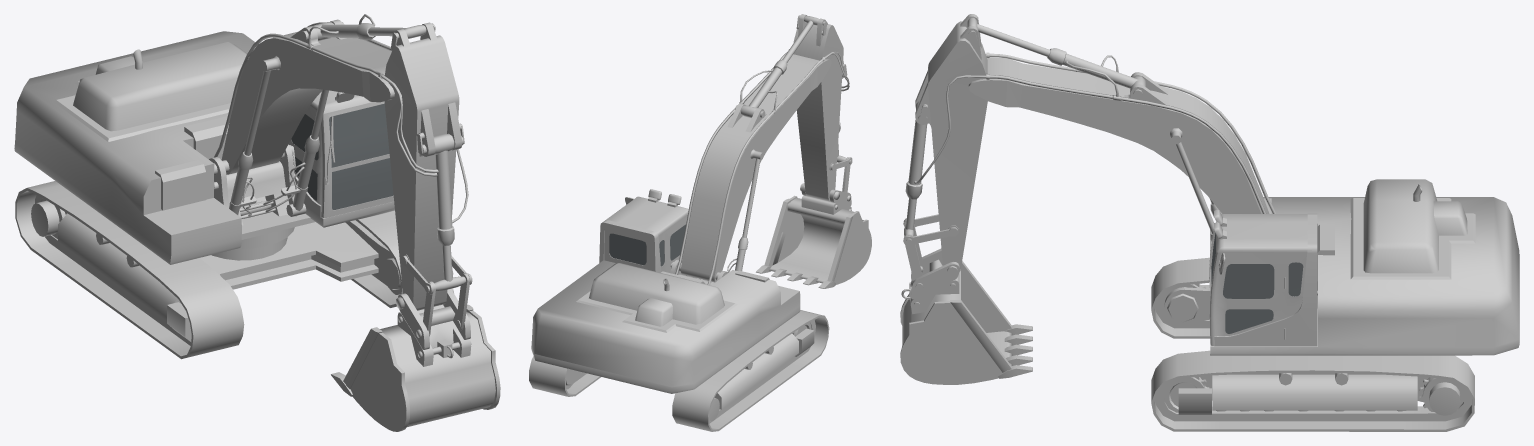
Rendered from HydraulicExcavator_LOD1.FBX.
3 renders of one model, left to right at view 1: azimuth 30°, elevation 25°; view 2: azimuth 150°, elevation 25°; view 3: azimuth 270°, elevation 25°, orthographic. The views are drawn at different scales.
Parts seen in each view (by area): view 1: Arm_LOD1, Body_LOD1, Track_LOD1, Windows_LOD1; view 2: Arm_LOD1, Body_LOD1, Track_LOD1, Windows_LOD1; view 3: Arm_LOD1, Body_LOD1, Track_LOD1, Windows_LOD1.
Part boxes in pixels (x1=…): Arm_LOD1: x1=209, y1=14, x2=500, y2=431; Body_LOD1: x1=14, y1=31, x2=400, y2=341; Track_LOD1: x1=15, y1=181, x2=453, y2=359; Windows_LOD1: x1=291, y1=103, x2=393, y2=209; Arm_LOD1: x1=599, y1=14, x2=871, y2=288; Body_LOD1: x1=531, y1=260, x2=814, y2=421; Track_LOD1: x1=529, y1=310, x2=829, y2=431; Windows_LOD1: x1=609, y1=224, x2=685, y2=266; Arm_LOD1: x1=900, y1=14, x2=1317, y2=384; Body_LOD1: x1=1164, y1=179, x2=1519, y2=415; Track_LOD1: x1=1151, y1=257, x2=1474, y2=431; Windows_LOD1: x1=1211, y1=233, x2=1303, y2=333.
Bounding box in the file's own units: 5.37 × 7.52 × 12.09.
